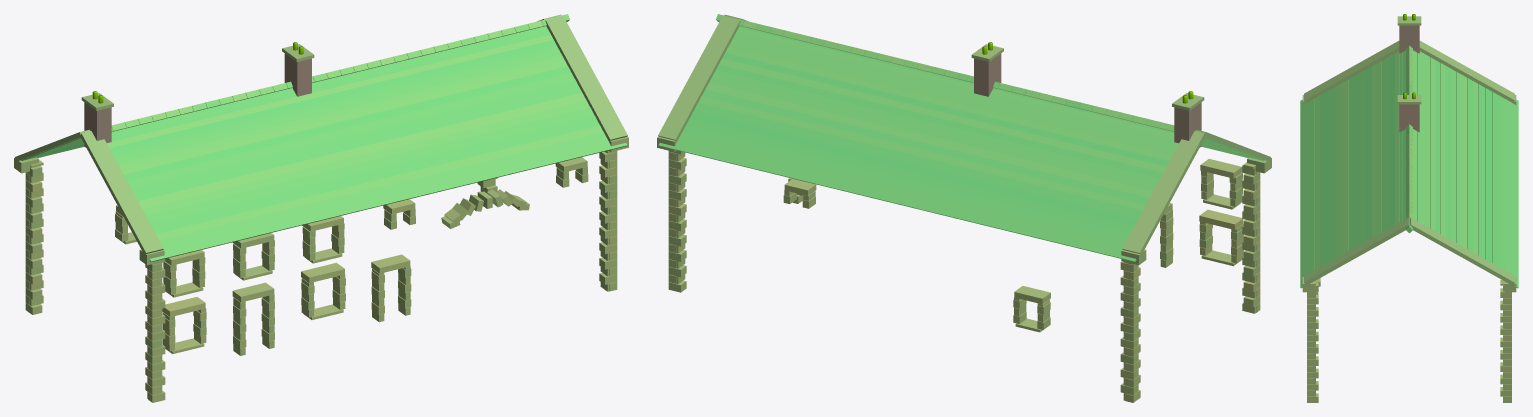
The model's file is SM_Bld_030_Stone.glb.
3 renders of one model, left to right at view 1: azimuth 30°, elevation 25°; view 2: azimuth 150°, elevation 25°; view 3: azimuth 270°, elevation 25°, orthographic. The views are drawn at different scales.
Visible parts, largest first — view 1: SM_Bld_030_Stone; view 2: SM_Bld_030_Stone; view 3: SM_Bld_030_Stone.
Boxes of the visible parts, left/top/right/bottom form: SM_Bld_030_Stone: left=14, top=14, right=628, bottom=402; SM_Bld_030_Stone: left=657, top=14, right=1271, bottom=402; SM_Bld_030_Stone: left=1300, top=14, right=1518, bottom=402.
Size of the model in its own units: 19.95 by 10.17 by 9.61.
